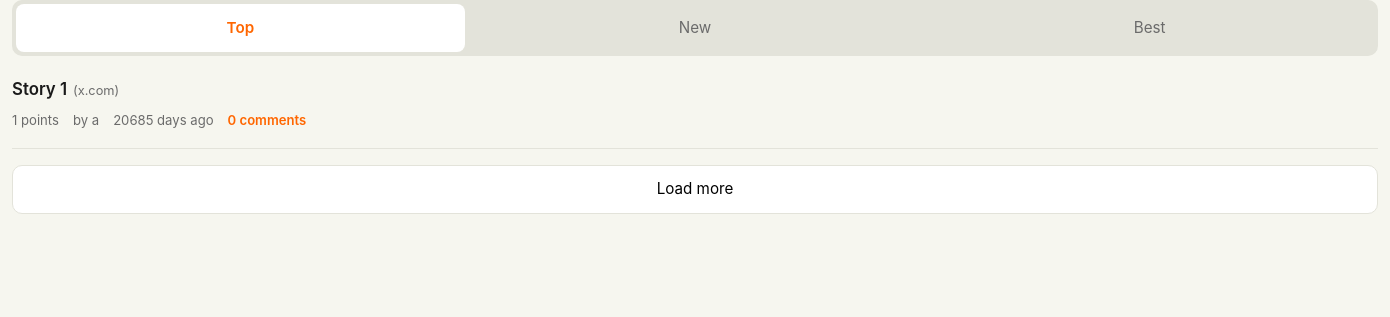
Scenario: Load more appends the next page
Expected: the link "Story 1" is shown, [12,79,67,99]
Step 1. Click the button "Load more" → (695, 190), box [12,165,1378,214]
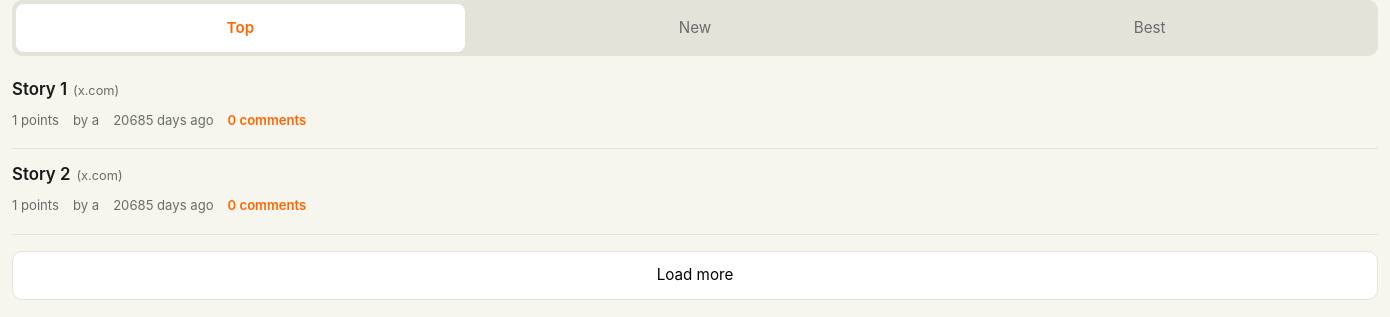
Expected: the link "Story 1" is shown, [12,79,67,99]
Now the link "Story 2" is shown, box [12,164,70,184]
